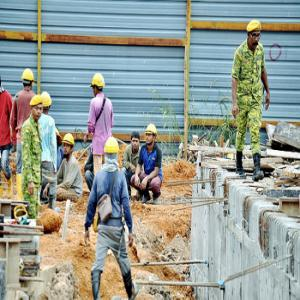none: (130, 130, 141, 152)
yellow: (248, 20, 262, 48), (104, 137, 119, 163), (30, 96, 44, 122), (92, 74, 105, 95), (23, 69, 35, 91), (64, 134, 74, 158), (146, 124, 157, 145), (42, 92, 52, 114)
